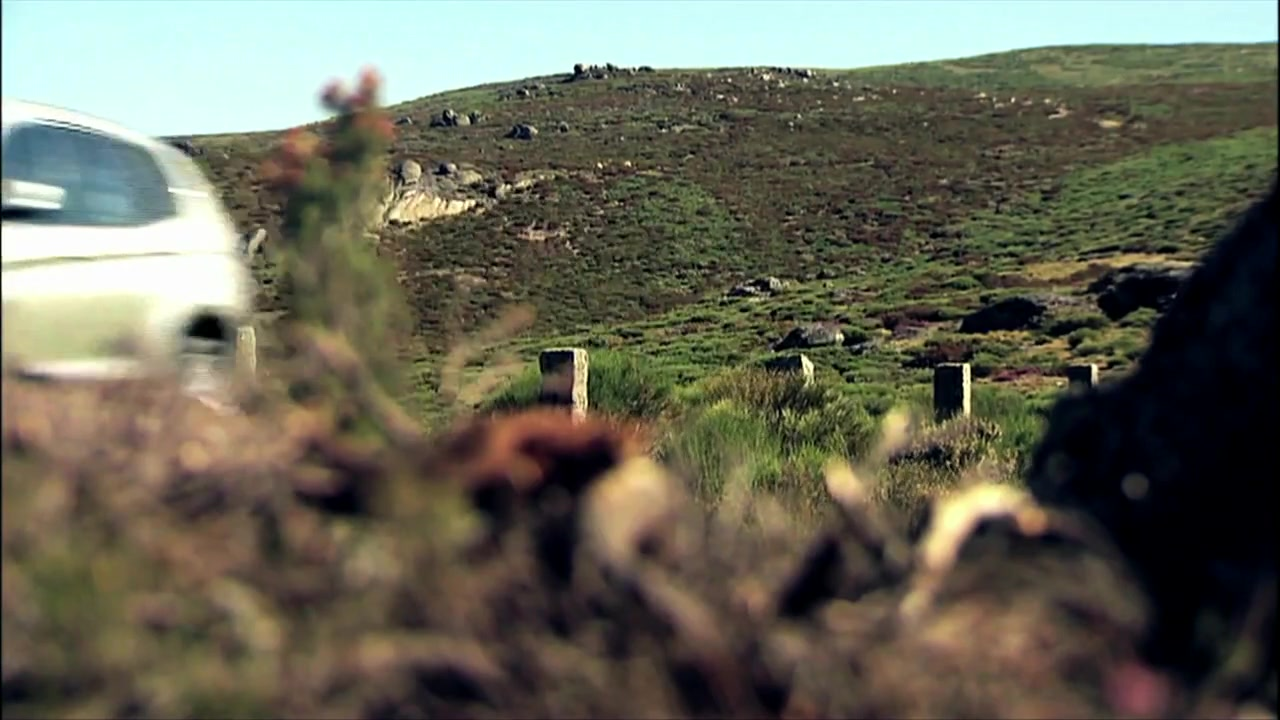car: (5, 95, 256, 413)
